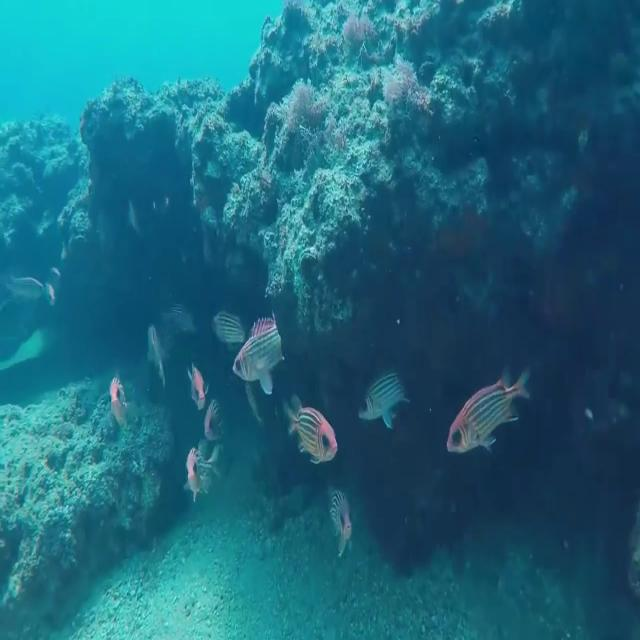Asker Baligi: (445, 366, 531, 456), (281, 396, 344, 480), (231, 309, 285, 396)
